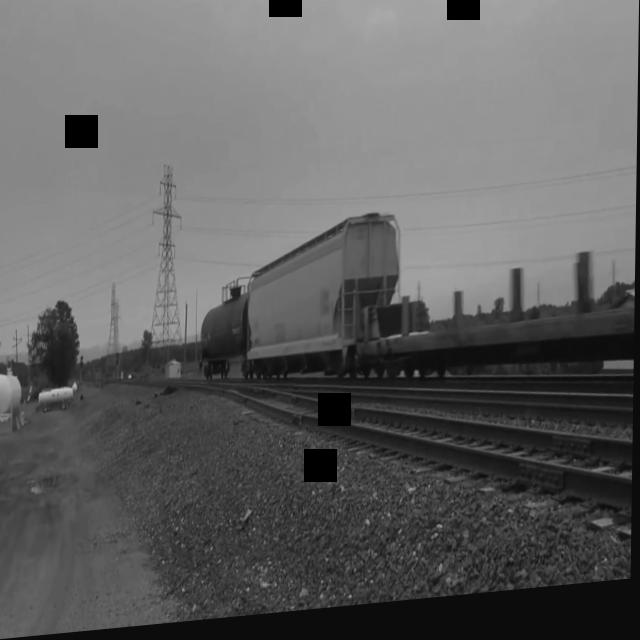flatcar: (355, 249, 637, 407)
hopper: (241, 214, 404, 403)
tank: (195, 285, 249, 391)
